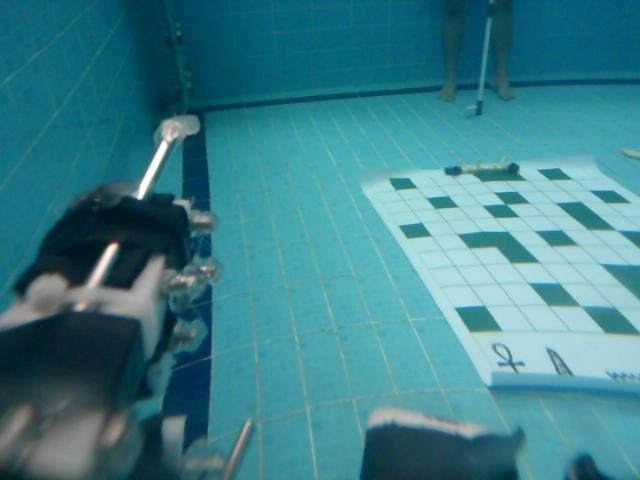Ankh: (490, 342, 525, 377)
Reed: (542, 345, 574, 380)
Water: (604, 368, 640, 382)
